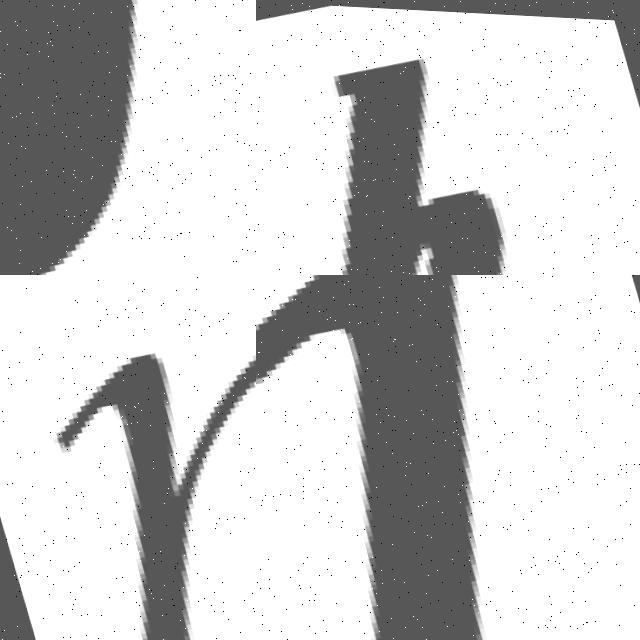1: (256, 275, 600, 640)
G: (0, 0, 256, 275)
H: (331, 53, 499, 275)
M: (10, 275, 256, 640)
